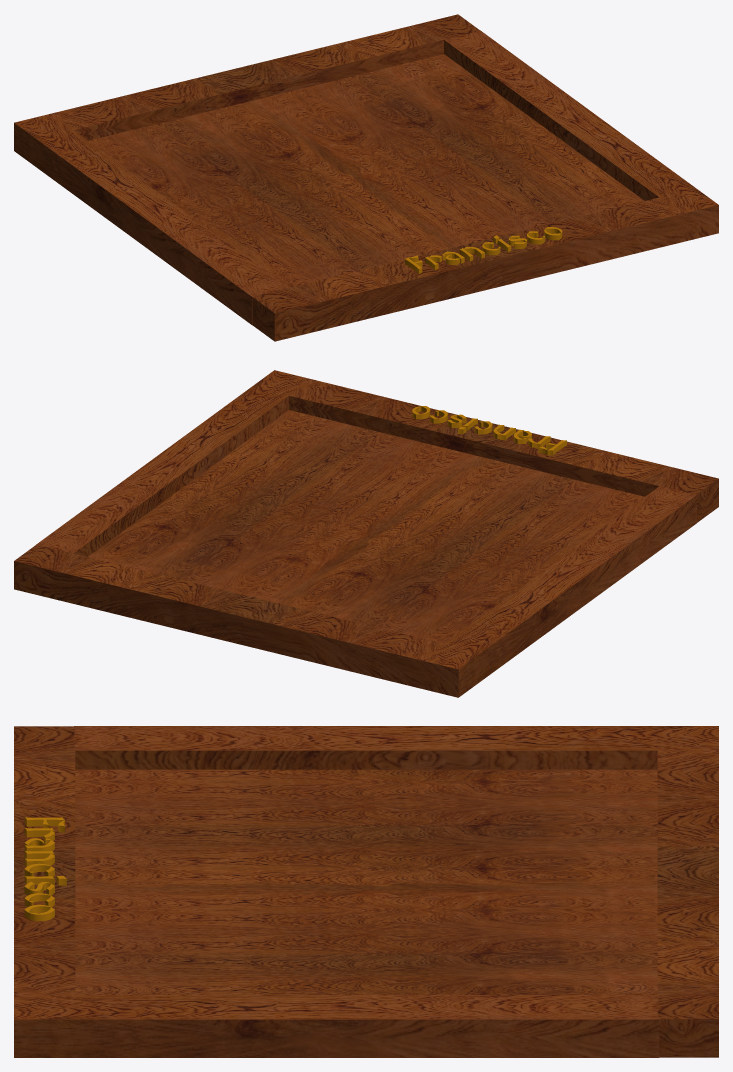
File: newmonkframe1.glb
3 views of the same model, one above another, from view 1: azimuth 30°, elevation 25°; view 2: azimuth 150°, elevation 25°; view 3: azimuth 270°, elevation 25° (orthographic). The views are drawn at different scales.
Visible parts, largest first — view 1: Plane, Cube.001, Cube, William Dafilo; view 2: Plane, Cube, Cube.001, William Dafilo; view 3: Plane, Cube.001, Cube, William Dafilo.
Boxes of the visible parts, <box> form: Plane: <box>88,54,644,287</box>; Cube.001: <box>252,30,718,341</box>; Cube: <box>14,14,480,325</box>; William Dafilo: <box>405,227,562,273</box>; Plane: <box>88,410,644,643</box>; Cube: <box>14,486,696,697</box>; Cube.001: <box>36,370,718,556</box>; William Dafilo: <box>412,406,566,455</box>; Plane: <box>75,769,657,994</box>; Cube.001: <box>14,726,659,1057</box>; Cube: <box>74,726,718,1057</box>; William Dafilo: <box>24,817,66,921</box>.
Size of the model in its own units: 0.6743 by 0.0482 by 0.6847.
Materials: 3 (2 with a texture image).
